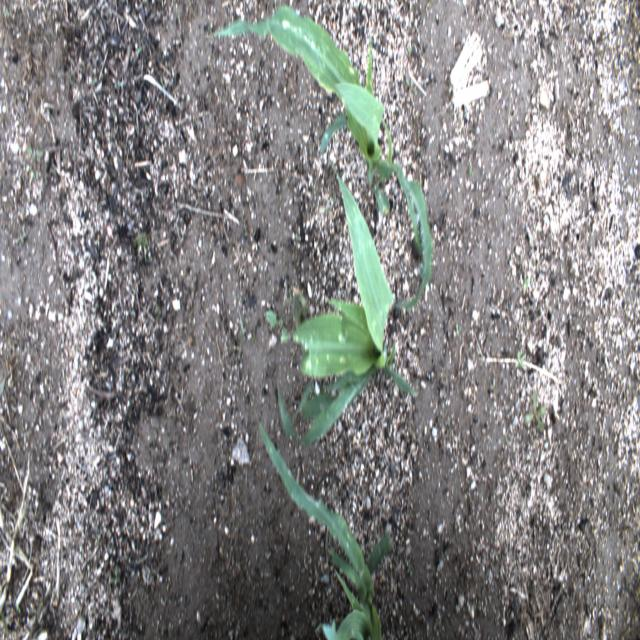crop: (211, 6, 433, 309), (277, 172, 418, 447), (257, 423, 391, 639)
weed: (524, 388, 547, 432), (233, 288, 246, 357), (264, 310, 289, 341), (132, 231, 149, 263), (109, 562, 120, 588), (13, 228, 28, 246), (514, 348, 524, 371), (27, 146, 44, 158), (405, 77, 416, 95), (26, 162, 34, 181), (152, 306, 160, 322), (0, 379, 6, 399), (408, 562, 414, 579), (468, 158, 473, 178), (523, 276, 530, 290), (489, 384, 498, 393), (17, 602, 21, 622), (103, 347, 109, 359), (136, 46, 143, 53), (408, 46, 412, 58)
